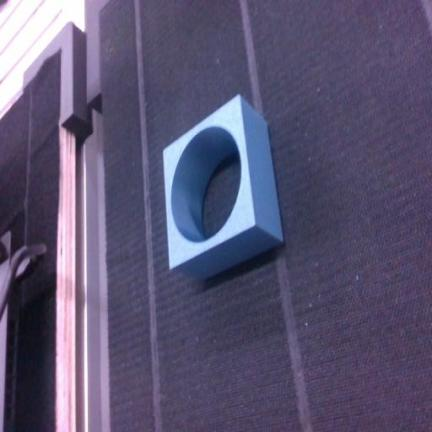hole: (164, 96, 282, 278)
